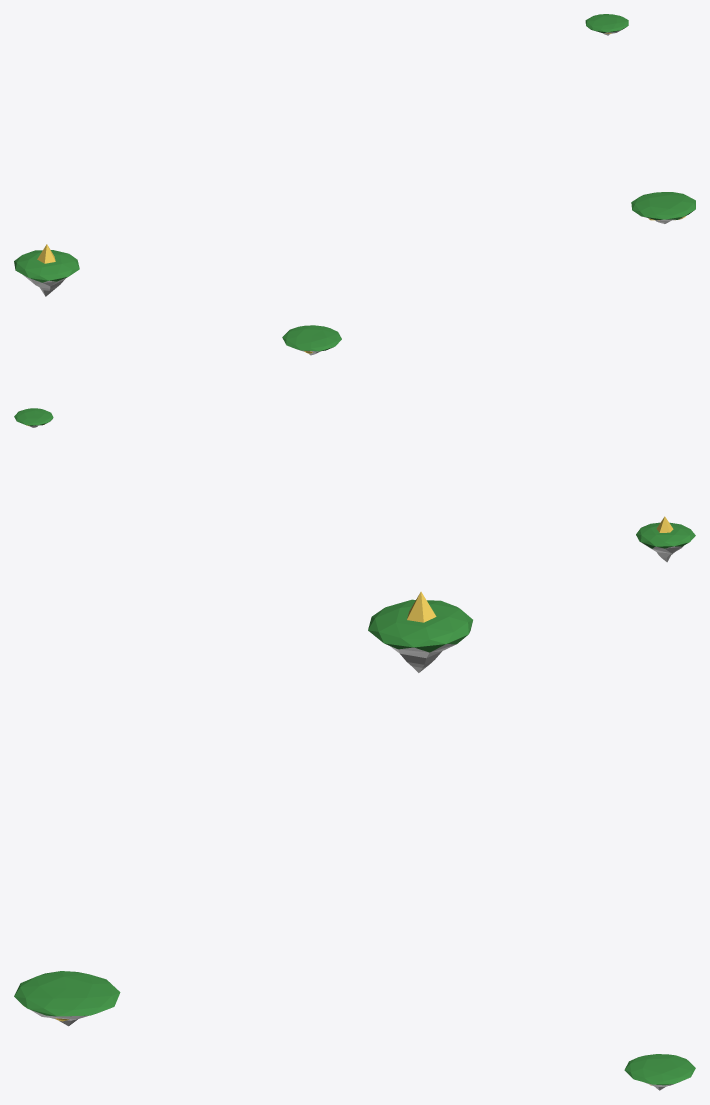
The model's file is landscape.islands.big.fbx.
The picture shows the model from 3 angles, top to bottom: view 1: azimuth 30°, elevation 25°; view 2: azimuth 150°, elevation 25°; view 3: azimuth 270°, elevation 25°; orthographic projection. The views are drawn at different scales.
Parts seen in each view (by area): view 1: Island, Island_3, Island_4; view 2: Island_3, Island, Island_4; view 3: Island_3, Island, Island_4.
Boxes of the visible parts, x1,y1,x2,y2 form: Island: [14, 250, 79, 282]; Island_3: [631, 192, 695, 219]; Island_4: [585, 14, 628, 33]; Island_3: [282, 325, 341, 351]; Island: [636, 522, 695, 548]; Island_4: [14, 408, 53, 425]; Island_3: [14, 971, 120, 1016]; Island: [368, 599, 472, 652]; Island_4: [624, 1054, 695, 1085].
Size of the model in its own units: 4065 by 375 by 2192.
